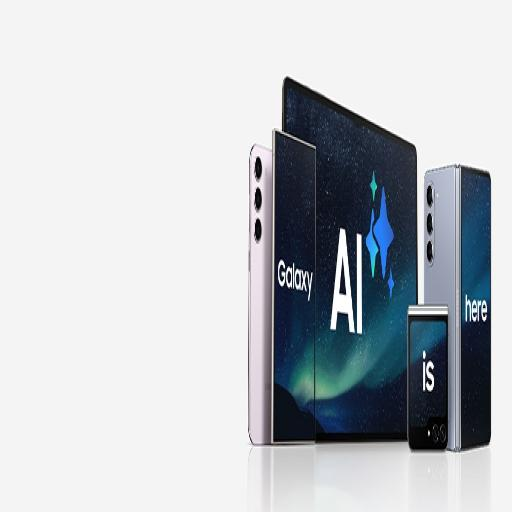phone: (424, 172, 459, 330)
